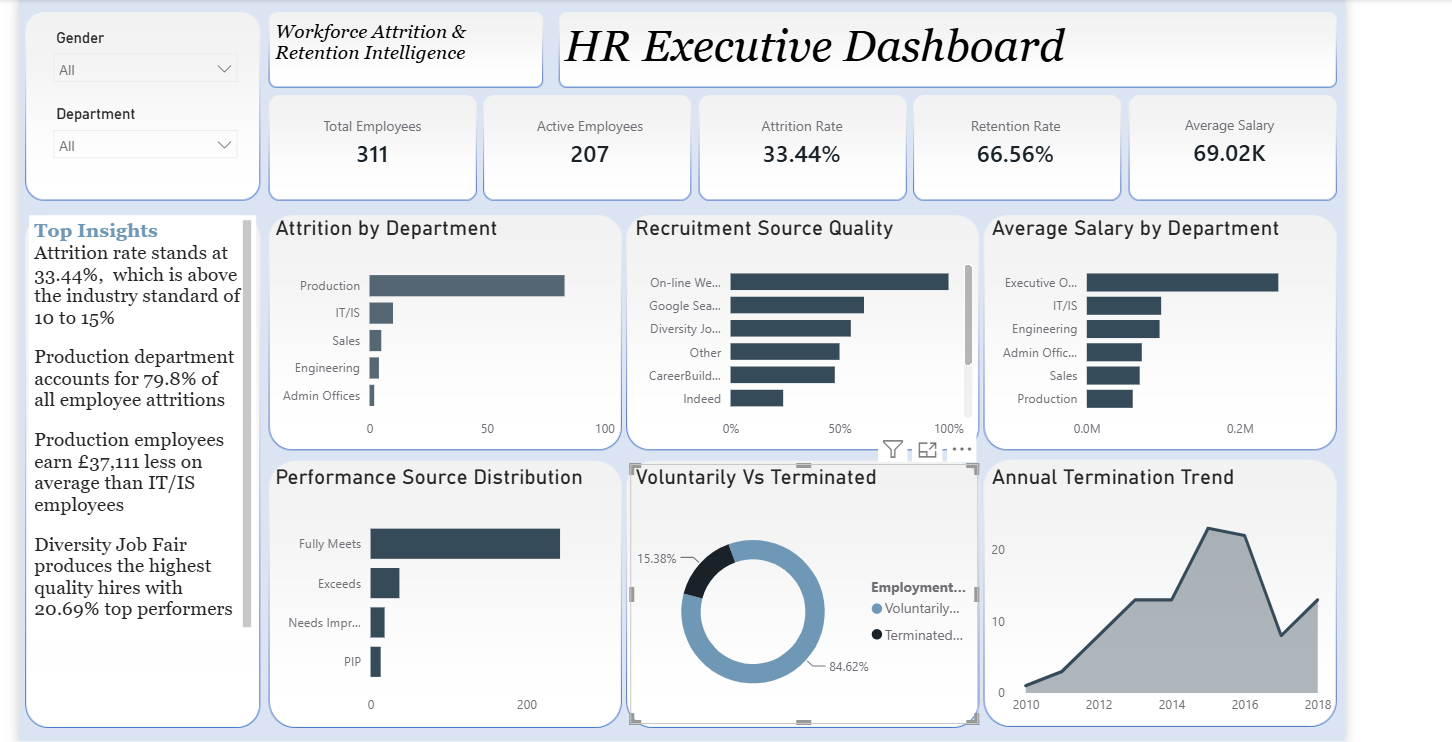

The dashboard page shown, as its layout file describes it:
{"tool":"powerbi","page":{"name":"Page 1","canvas":[1280,720],"ordinal":0},"visuals":[{"type":"cardVisual","fields":{"Data":["cleaned_SQL.Attrition Rate"]},"box":[652.7,90.5,206.3,95.3],"z":0},{"type":"cardVisual","fields":{"Data":["cleaned_SQL.Retention Rate"]},"box":[859,90.5,206.3,95.3],"z":1000},{"type":"cardVisual","fields":{"Data":["cleaned_SQL.Average Salary"]},"box":[1065.3,89.3,206.3,95.3],"z":2000},{"type":"cardVisual","fields":{"Data":["cleaned_SQL.Total Employees"]},"box":[242.5,90.5,197.9,95.3],"z":3000},{"type":"cardVisual","fields":{"Data":["cleaned_SQL.Active Employees"]},"box":[450,90.5,202.7,95.3],"z":4000},{"type":"textbox","box":[521.2,15.7,750.4,65.1],"z":5000},{"type":"barChart","title":"Attrition by Department","fields":{"Y":["cleaned_SQL.Total Attrition"],"Category":["cleaned_SQL.Department"]},"box":[242.5,208.7,337.8,224.4],"z":6000},{"type":"barChart","title":"Recruitment Source Quality","fields":{"Category":["cleaned_SQL.Recruitment_Source"],"Y":["cleaned_SQL.Attrition Rate"]},"box":[589.9,208.7,335.4,224.4],"z":7000},{"type":"barChart","fields":{"Category":["cleaned_SQL.Department"],"Y":["cleaned_SQL.Average Salary"]},"box":[933.8,208.7,337.8,224.4],"z":8000},{"type":"barChart","title":"Performance Source Distribution","fields":{"Category":["cleaned_SQL.Performance_Score"],"Y":["CountNonNull(cleaned_SQL.Employee_ID)"]},"box":[242.5,448.8,337.8,250.9],"z":9000},{"type":"donutChart","title":"Voluntarily Vs Terminated ","fields":{"Category":["cleaned_SQL.Employment_Status"],"Y":["CountNonNull(cleaned_SQL.Employee_ID)"]},"box":[589.9,448.8,335.4,250.9],"z":10000},{"type":"slicer","fields":{"Values":["cleaned_SQL.Gender"]},"box":[22.9,24.1,197.9,66.4],"z":11000},{"type":"areaChart","title":"Annual Termination Trend","fields":{"Category":["cleaned_SQL.Termination Year"],"Y":["CountNonNull(cleaned_SQL.Employee_ID)"]},"box":[933.8,448.8,337.8,250.9],"z":12000},{"type":"textbox","box":[242.5,15.7,265.4,65.1],"z":13000},{"type":"textbox","box":[9.7,208.7,219.6,416.2],"z":14000},{"type":"slicer","fields":{"Values":["cleaned_SQL.Department"]},"box":[22.9,97.7,197.9,82],"z":15000}]}

Visuals, with their boxes on the page's 1280x720 design canvas (x1, y1, x2, y2). These are canvas units, not pixel positions in the 1452x742 screenshot, which may show the page scaled, cropped or inside an application window:
cardVisual - cleaned_SQL.Attrition Rate: [left=653, top=90, right=859, bottom=186]
cardVisual - cleaned_SQL.Retention Rate: [left=859, top=90, right=1065, bottom=186]
cardVisual - cleaned_SQL.Average Salary: [left=1065, top=89, right=1272, bottom=185]
cardVisual - cleaned_SQL.Total Employees: [left=242, top=90, right=440, bottom=186]
cardVisual - cleaned_SQL.Active Employees: [left=450, top=90, right=653, bottom=186]
textbox: [left=521, top=16, right=1272, bottom=81]
"Attrition by Department" barChart: [left=242, top=209, right=580, bottom=433]
"Recruitment Source Quality" barChart: [left=590, top=209, right=925, bottom=433]
barChart - cleaned_SQL.Department x cleaned_SQL.Average Salary: [left=934, top=209, right=1272, bottom=433]
"Performance Source Distribution" barChart: [left=242, top=449, right=580, bottom=700]
"Voluntarily Vs Terminated " donutChart: [left=590, top=449, right=925, bottom=700]
slicer - cleaned_SQL.Gender: [left=23, top=24, right=221, bottom=90]
"Annual Termination Trend" areaChart: [left=934, top=449, right=1272, bottom=700]
textbox: [left=242, top=16, right=508, bottom=81]
textbox: [left=10, top=209, right=229, bottom=625]
slicer - cleaned_SQL.Department: [left=23, top=98, right=221, bottom=180]
